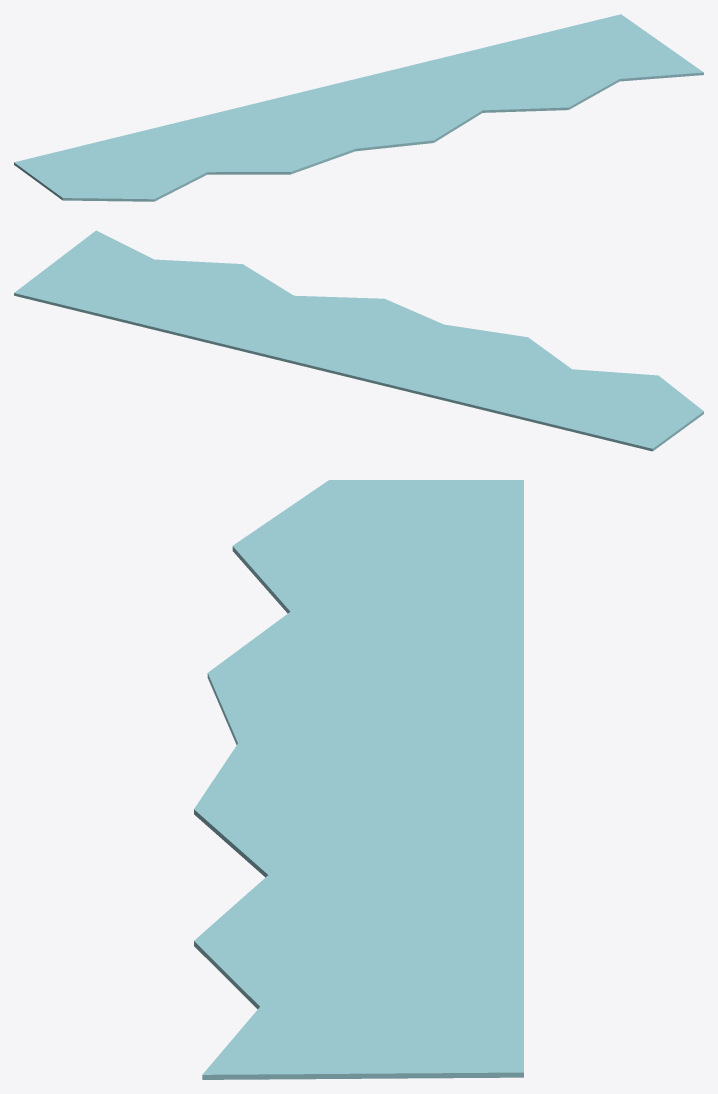
The model's file is Blue letter.fbx.
3 renders of one model, top to bottom at view 1: azimuth 30°, elevation 25°; view 2: azimuth 150°, elevation 25°; view 3: azimuth 270°, elevation 25°, orthographic. The views are drawn at different scales.
Parts seen in each view (by area): view 1: Blue Letter; view 2: Blue Letter; view 3: Blue Letter.
Boxes of the visible parts, x1=… form: Blue Letter: x1=14, y1=14, x2=703, y2=201; Blue Letter: x1=14, y1=230, x2=703, y2=451; Blue Letter: x1=194, y1=480, x2=523, y2=1079.
Size of the model in its own units: 151 by 0.6 by 35.32.
